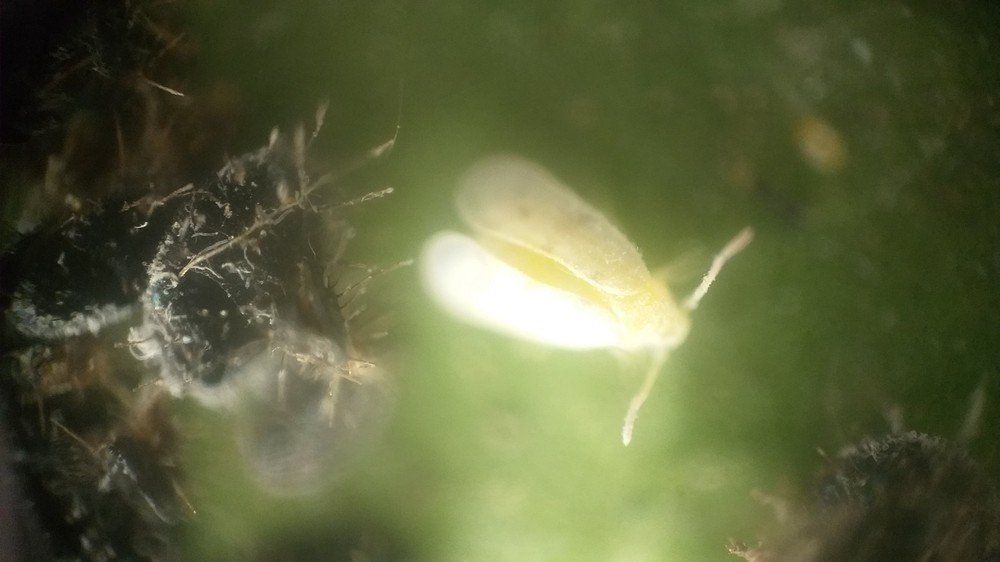Mosca Blanca: (401, 142, 764, 466)
